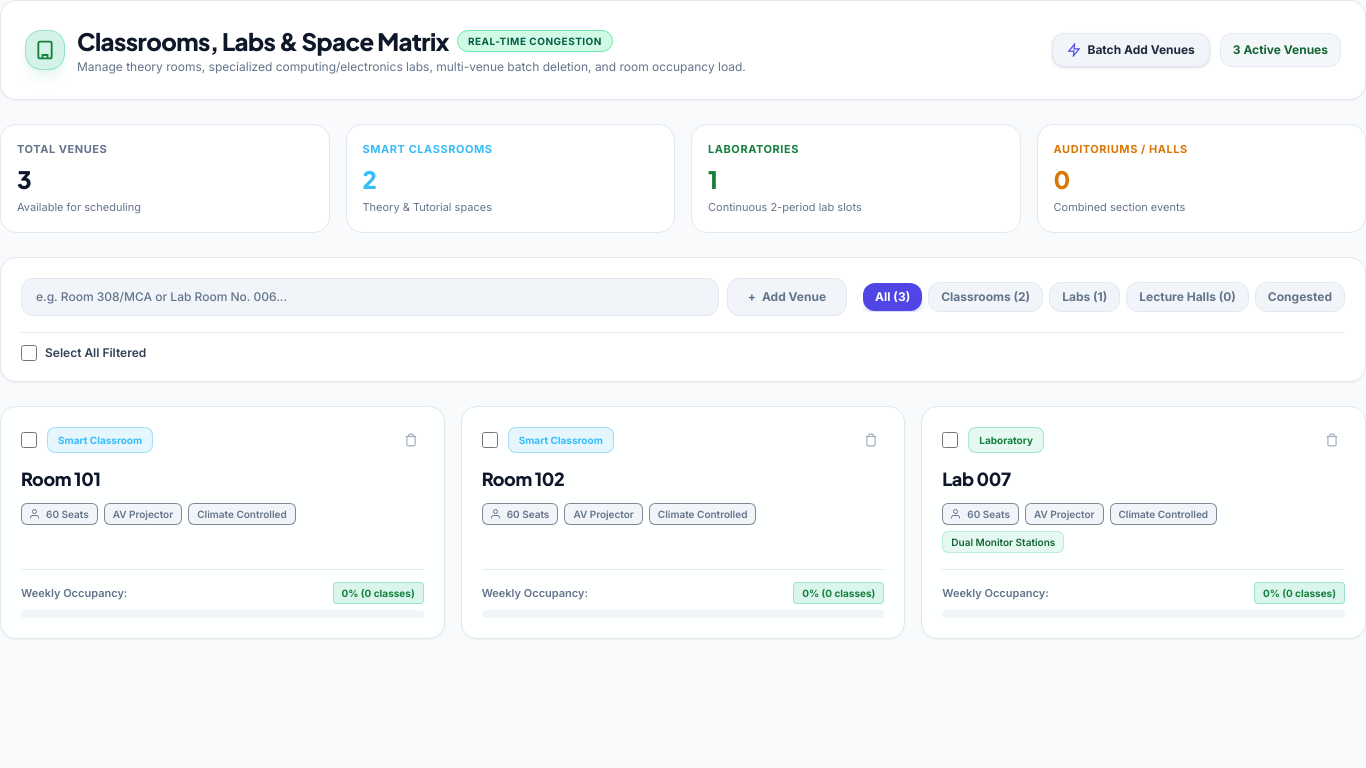
Test: RoomsSection Component › shows inline warning when typing duplicate room name and disables add button
In the field with placeholder "e.g. Room 308/MCA or Lab Room No. 006...": (370, 297) [21,278,719,316], type "Room 101"
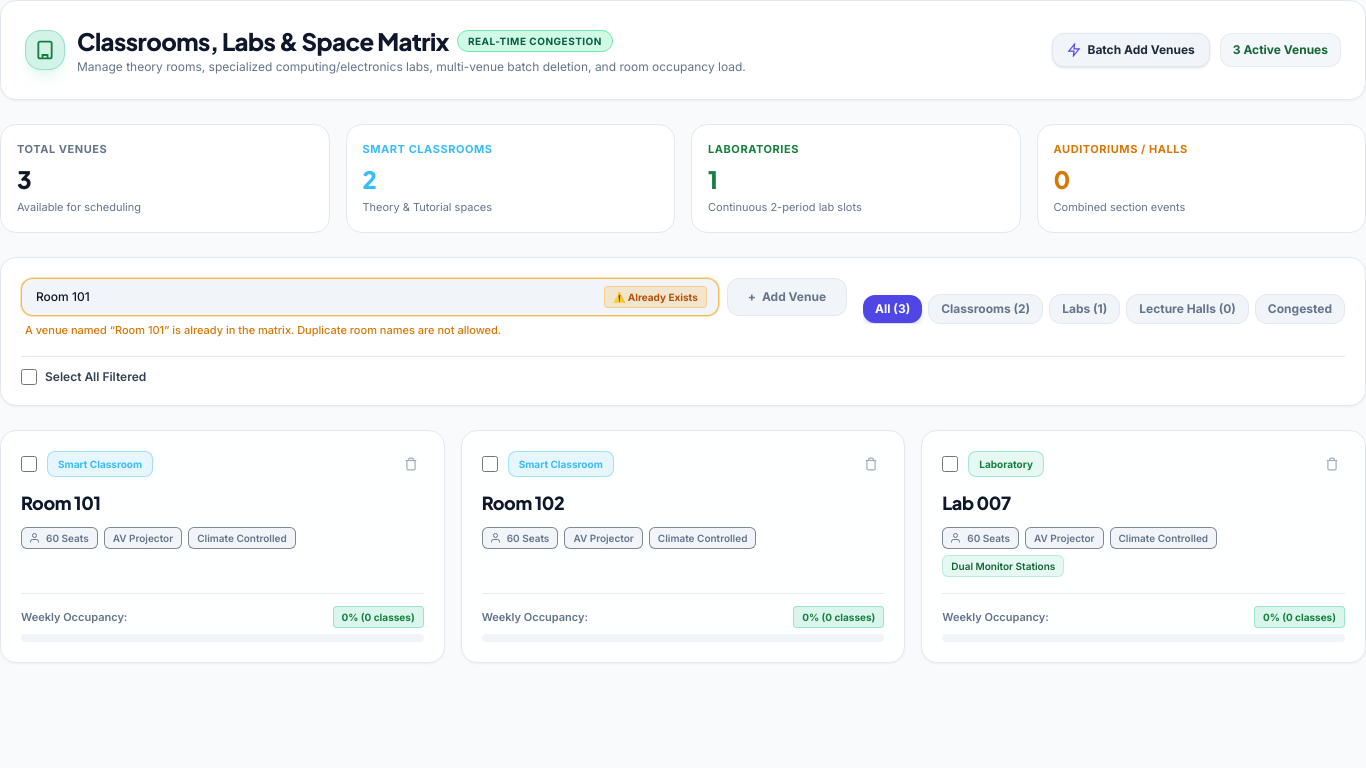
Expected: the button "+ Add Venue" is disabled, [727,278,847,316]
Expected: the text "⚠️ Already Exists" is shown, [613,289,698,305]
